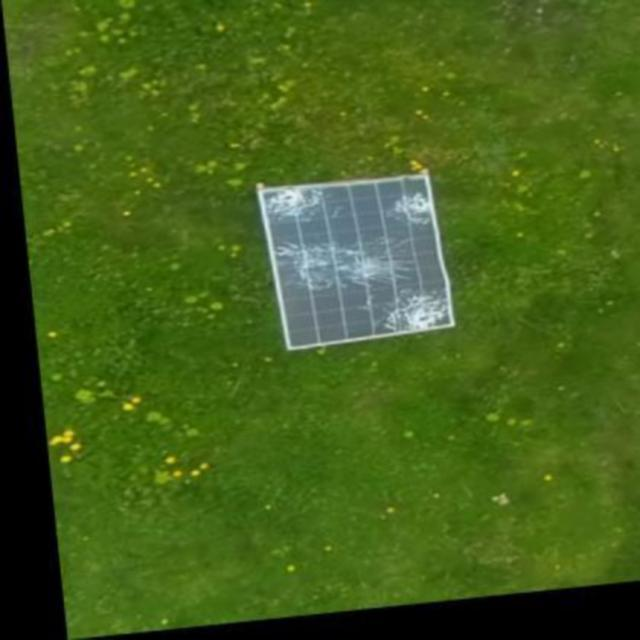cracked: (259, 169, 459, 349)
